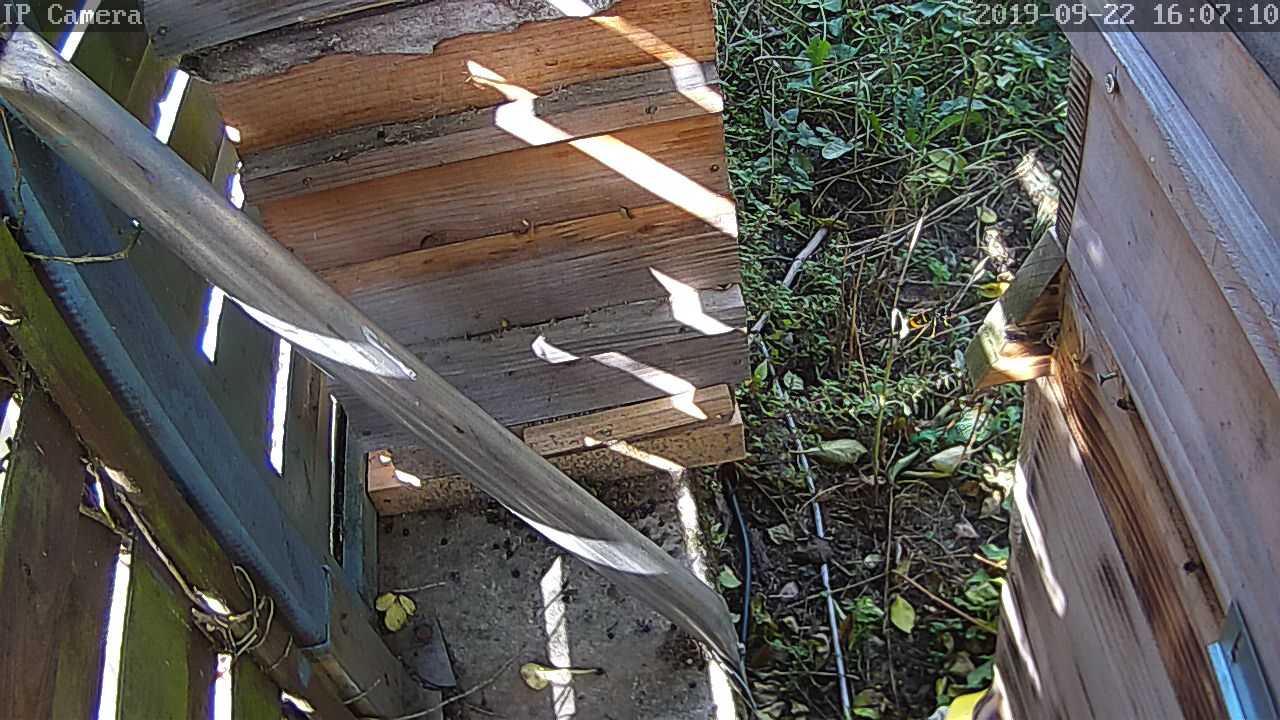bee: (1111, 388, 1145, 419), (1180, 558, 1212, 580)
